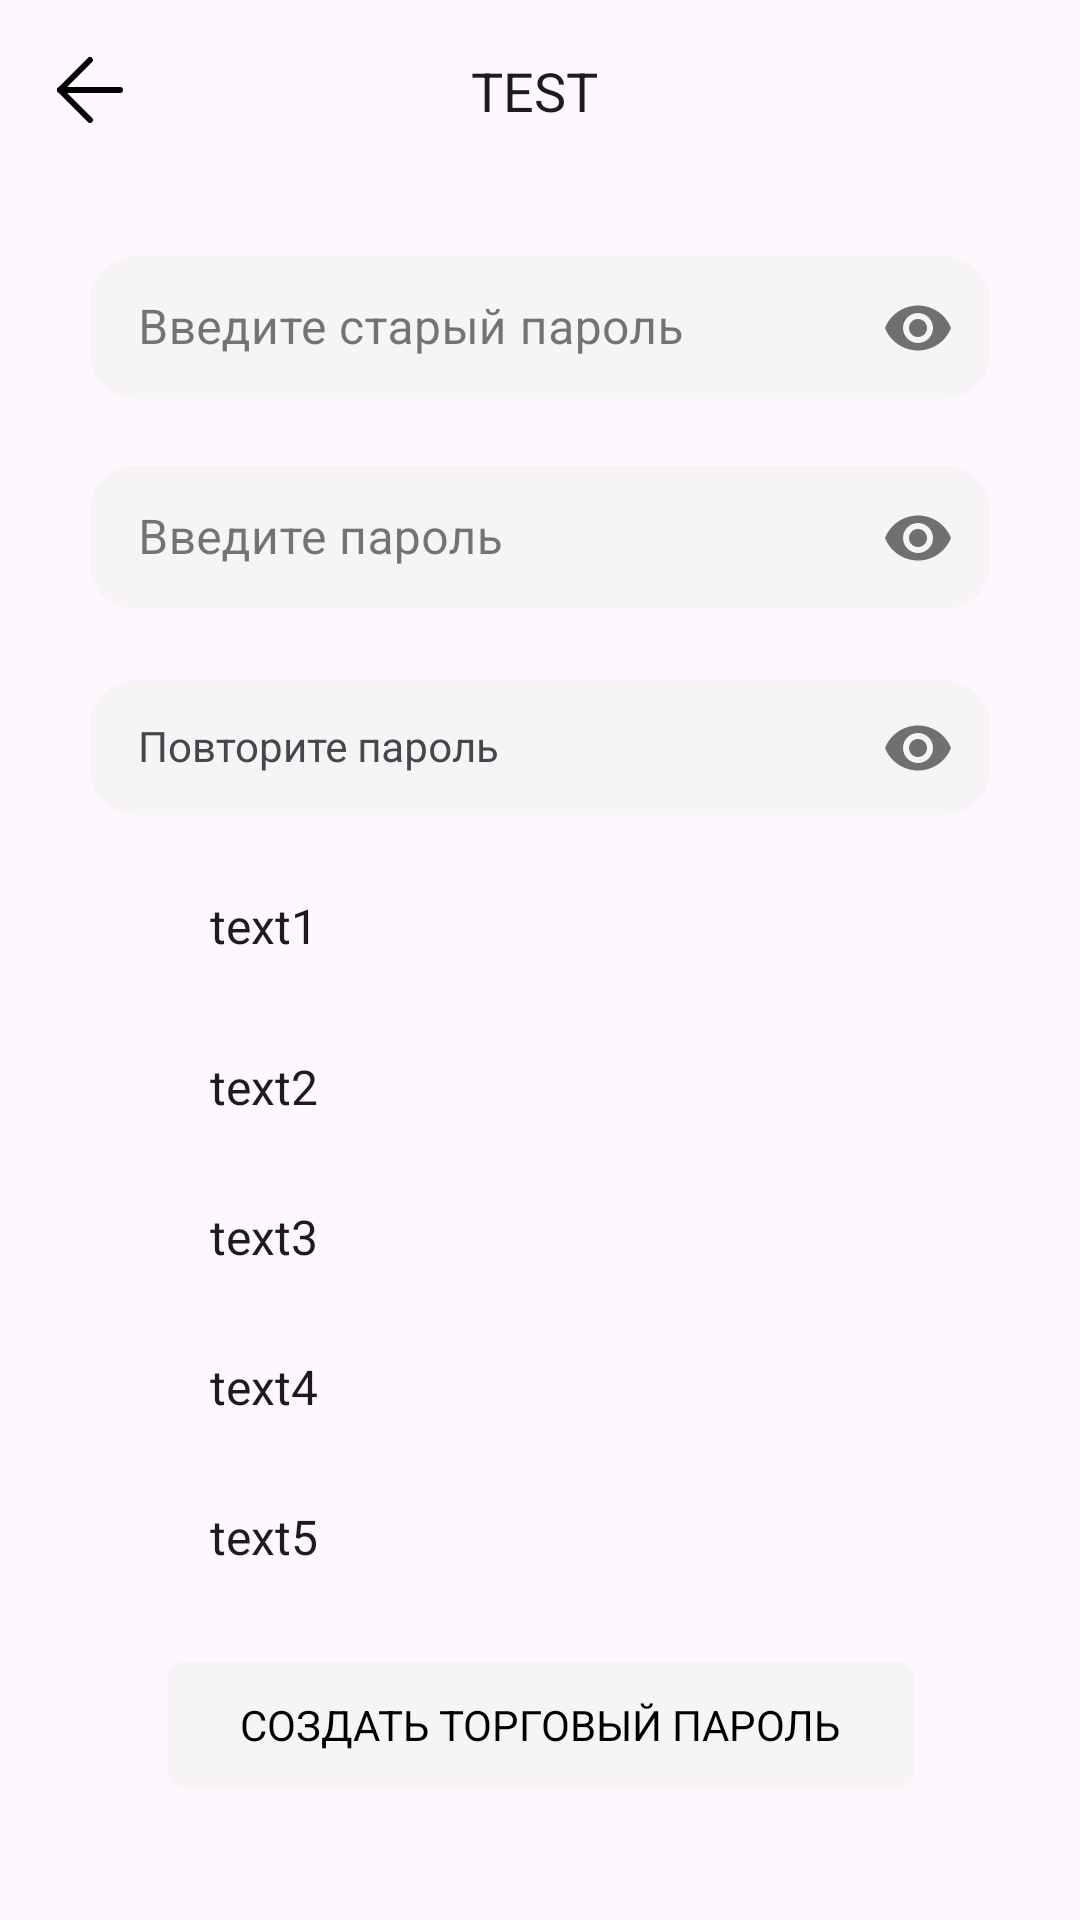

Screen size 1080px x 1920px. Icon name, then its center in pixels as point (x, y):
arrow left: point (90, 90)
